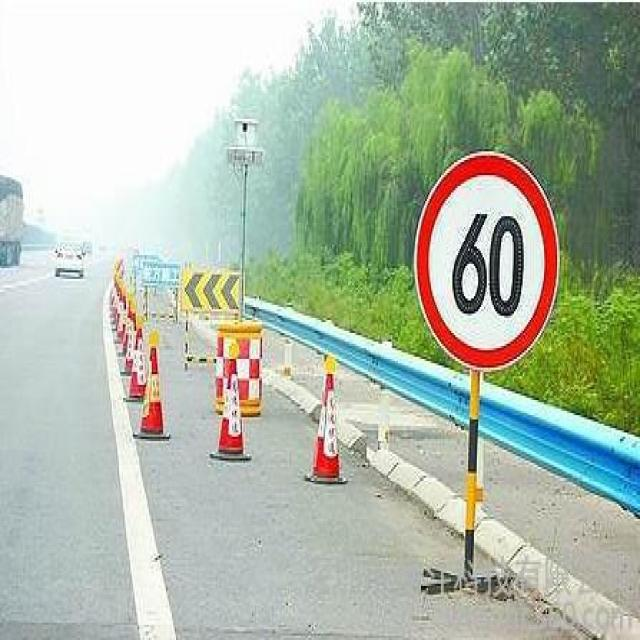speed limit 60: (415, 151, 560, 368)
